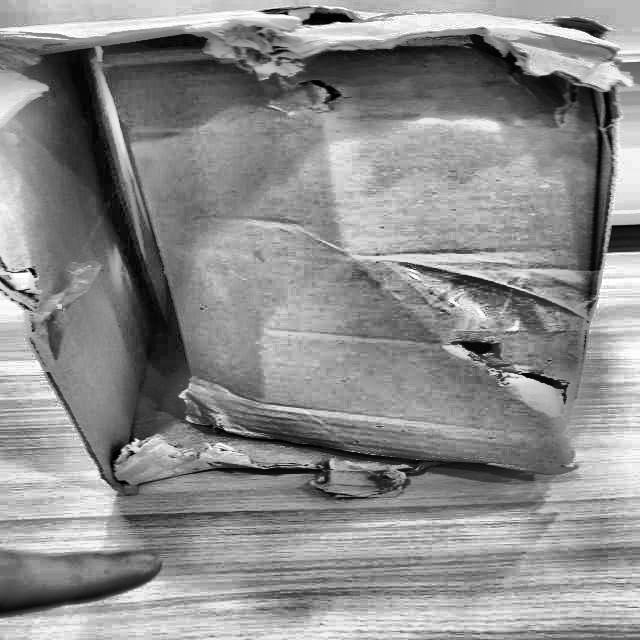box: (0, 0, 638, 513)
hole: (248, 6, 365, 32), (503, 367, 569, 399), (455, 337, 505, 361)
